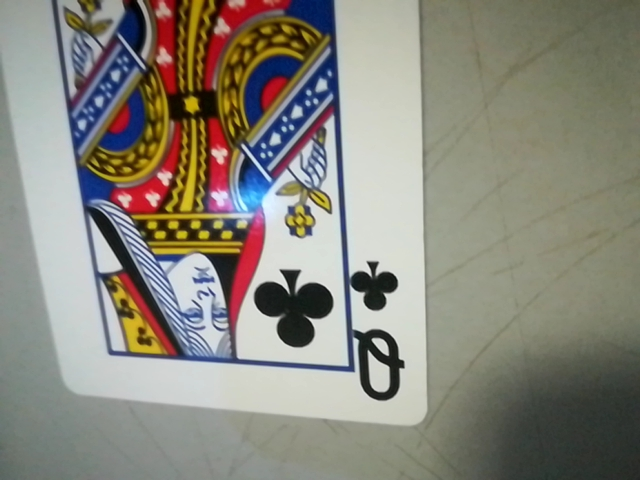mh q: (340, 251, 419, 413)
